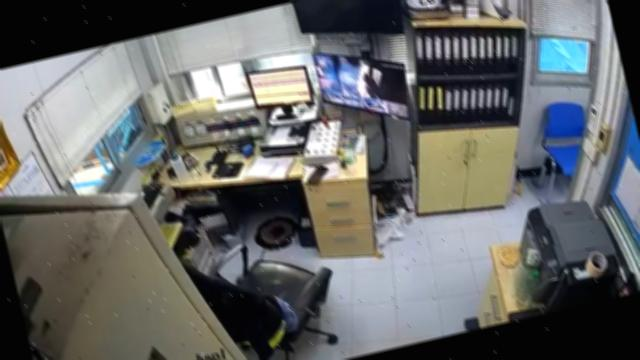Phone: (303, 164, 331, 186)
